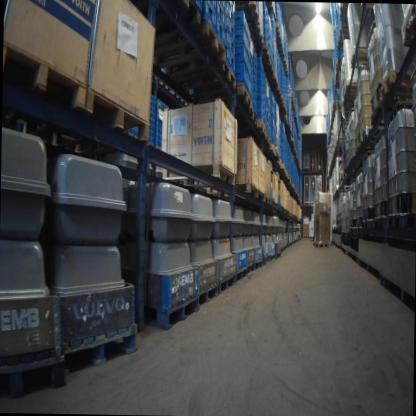pallet: (2, 39, 88, 110), (55, 320, 137, 379), (84, 83, 150, 142), (0, 345, 66, 401), (153, 19, 227, 64), (163, 57, 237, 88), (145, 293, 199, 330), (129, 0, 200, 25), (196, 82, 252, 110), (379, 69, 411, 103), (400, 3, 416, 48), (234, 1, 260, 24), (196, 281, 218, 307), (217, 271, 236, 293), (247, 22, 263, 43), (235, 264, 248, 282), (255, 118, 266, 137), (247, 105, 257, 124), (266, 73, 278, 87), (339, 2, 348, 20), (338, 25, 349, 39), (262, 42, 270, 61), (268, 1, 276, 18), (334, 135, 344, 148), (312, 241, 330, 248), (263, 132, 271, 146), (247, 260, 255, 274), (274, 21, 280, 39), (267, 60, 274, 75), (335, 184, 350, 191), (269, 142, 276, 155), (276, 94, 284, 105), (255, 258, 262, 269), (337, 37, 343, 49), (267, 252, 274, 262), (332, 99, 340, 107), (274, 250, 281, 259), (275, 86, 281, 96), (282, 56, 287, 68), (278, 37, 283, 48), (280, 46, 285, 57), (264, 195, 270, 204), (279, 163, 285, 171), (276, 158, 281, 166), (270, 199, 275, 207), (275, 150, 279, 160), (283, 103, 287, 113), (284, 68, 288, 77), (276, 203, 281, 210), (335, 60, 338, 71), (334, 71, 337, 81), (281, 206, 285, 213), (284, 114, 287, 123), (284, 168, 287, 176), (287, 122, 290, 129), (334, 80, 337, 87), (315, 165, 322, 168), (315, 160, 322, 163), (309, 163, 316, 166), (316, 169, 322, 172), (316, 163, 322, 166), (309, 169, 315, 172), (309, 164, 315, 167), (316, 161, 322, 164), (286, 172, 288, 179), (309, 168, 315, 170), (316, 167, 322, 169), (309, 166, 315, 168)
small_load_carrier: (201, 0, 216, 27), (215, 11, 225, 42), (215, 1, 224, 23), (229, 47, 236, 72), (222, 38, 230, 59), (229, 34, 236, 56), (224, 7, 230, 31), (229, 19, 235, 40), (229, 7, 235, 27), (225, 23, 230, 46), (224, 0, 230, 16), (230, 1, 235, 13), (265, 103, 268, 120), (268, 107, 271, 122), (265, 93, 268, 108), (268, 87, 271, 100), (265, 115, 269, 124), (265, 120, 268, 131), (268, 119, 271, 128), (268, 98, 270, 110), (268, 125, 270, 137)
